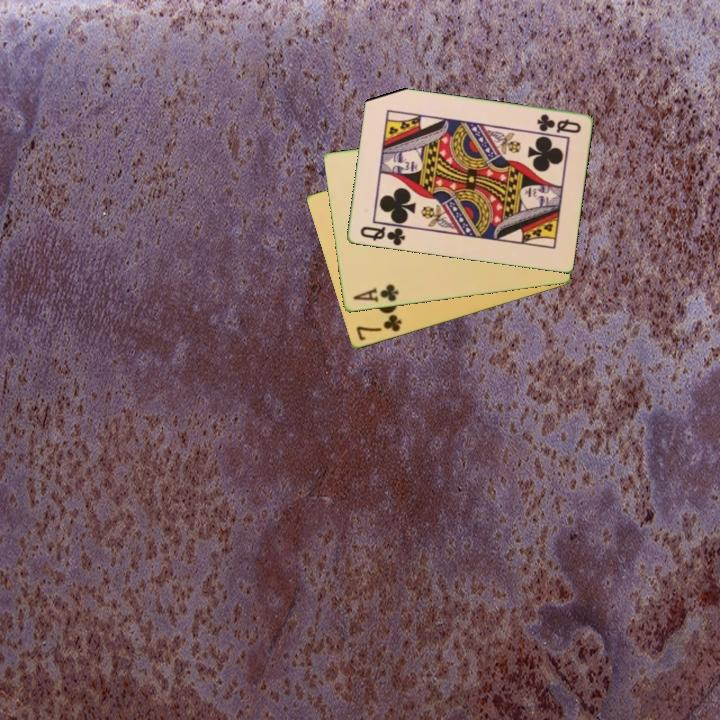7c: (352, 311, 405, 344)
Ac: (349, 281, 401, 306)
Qc: (356, 223, 408, 249), (533, 111, 584, 137)
